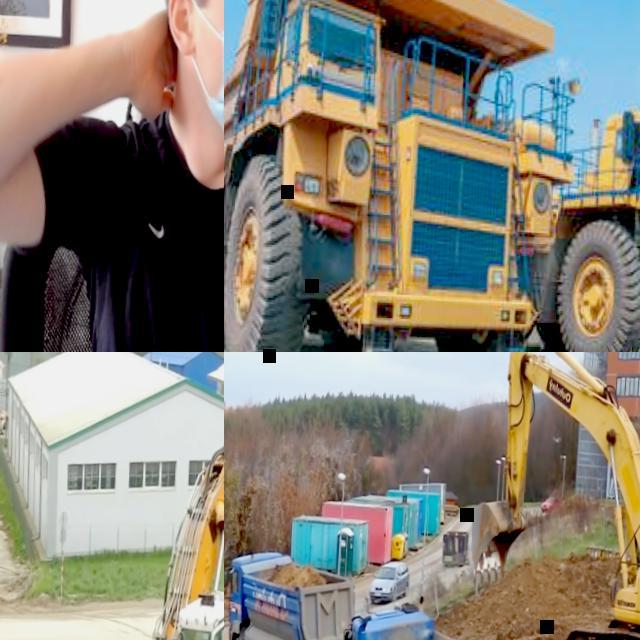machinery: (224, 0, 586, 352), (10, 352, 224, 640), (462, 352, 640, 640), (526, 95, 640, 352), (224, 546, 358, 640), (337, 602, 488, 640)
mask: (177, 0, 224, 154)
no_vest: (90, 107, 224, 352)
person: (0, 0, 224, 352)
vehicle: (368, 558, 411, 606), (540, 492, 561, 514)
